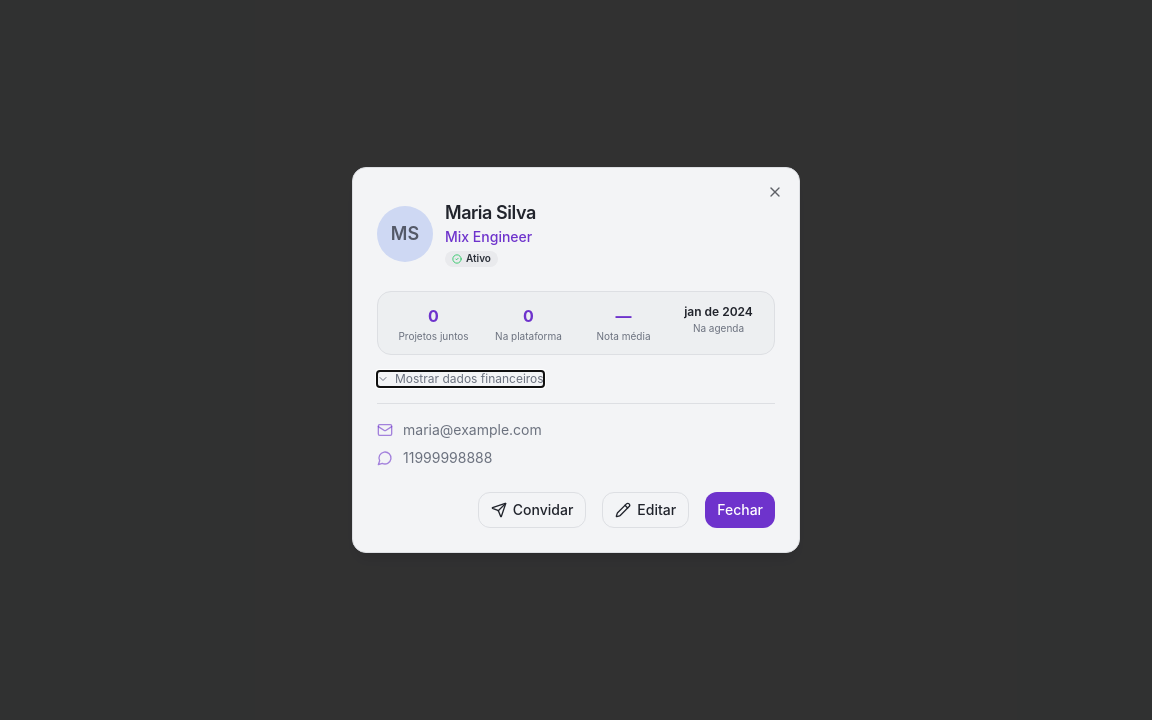
Scenario: ProfessionalDetailModal — comportamento do toggle › inicia oculto, expande e recolhe mantendo aria-expanded coerente
Click the button "Mostrar dados financeiros". click: (460,379)
box: [377,371,544,387]
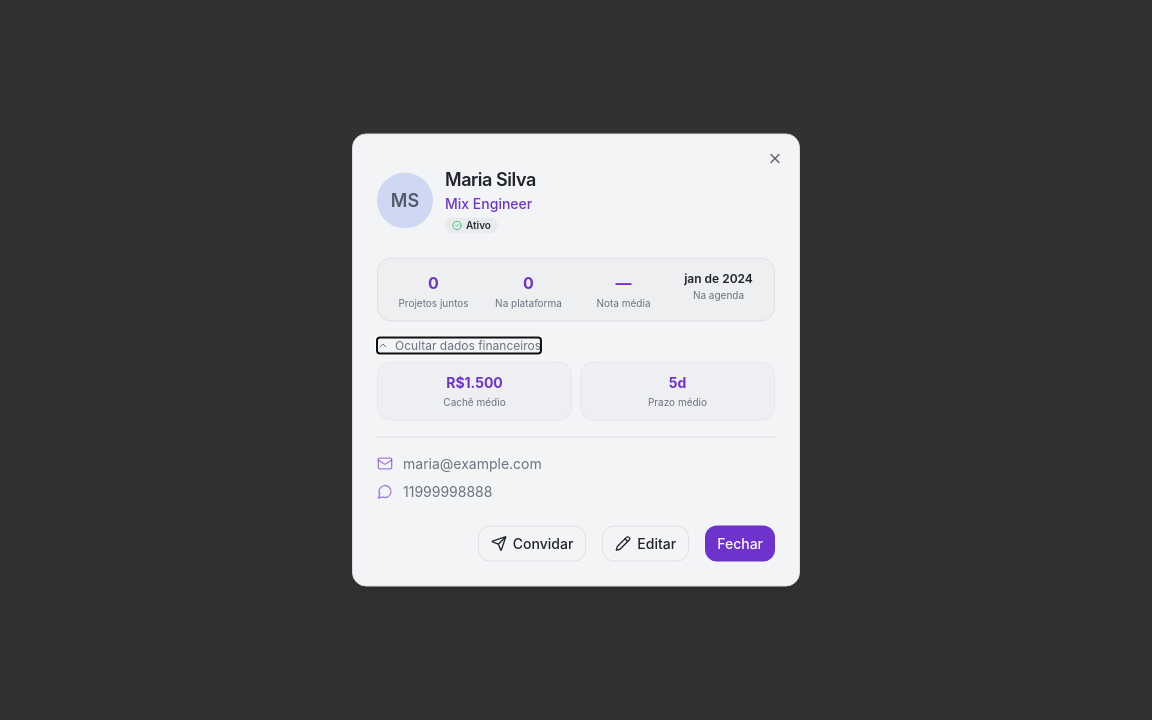
Now the button "Ocultar dados financeiros" is expanded
Now the element showing "R$1.500 Cachê médio 5d Prazo médio" is shown, box [377,362,775,420]
Now the text "Cachê médio" is shown, box [443,396,506,408]
Click the button "Ocultar dados financeiros". click: (459,346)
box: [377,338,541,354]
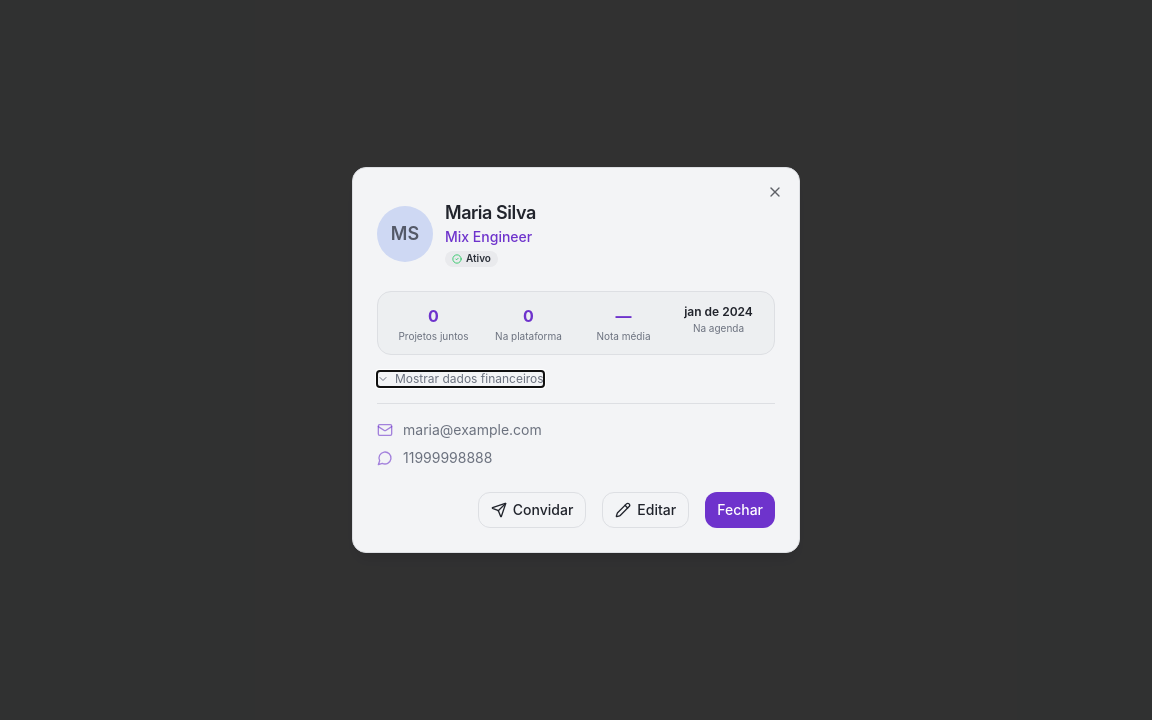
Now the button "Mostrar dados financeiros" is collapsed, box [377,371,544,387]
